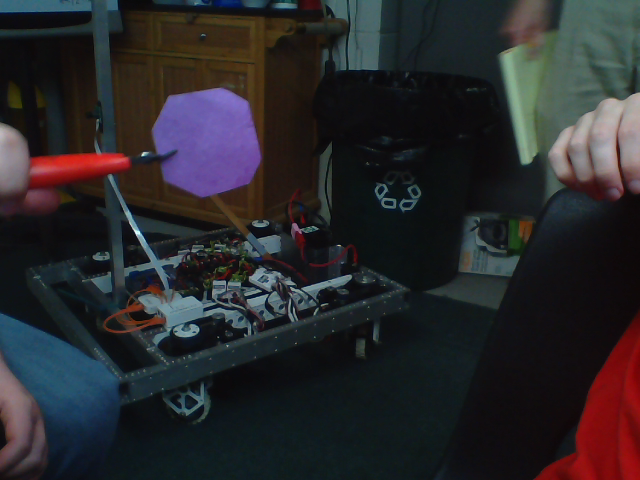ball: (152, 87, 262, 197)
